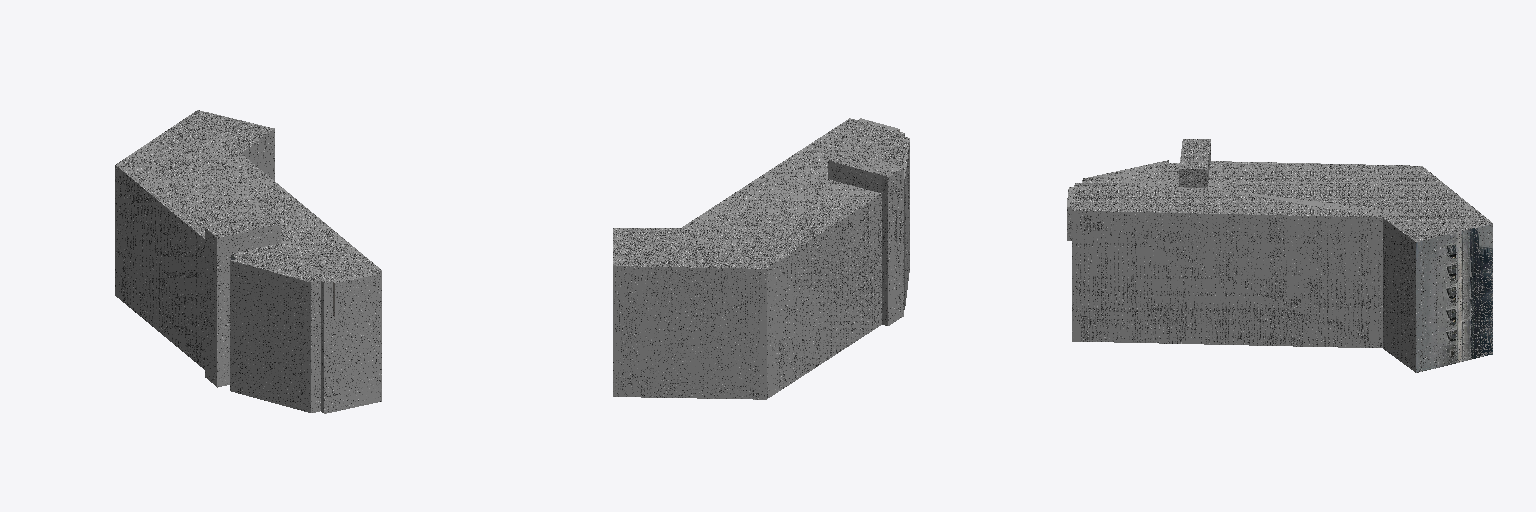
The picture shows the model from 3 angles: view 1: azimuth 30°, elevation 25°; view 2: azimuth 150°, elevation 25°; view 3: azimuth 270°, elevation 25°; orthographic projection.
Parts seen in each view (by area): view 1: group_0_ID3, group_0.001_ID46, group_0.008_ID172, group_0.002_ID69, group_0.006_ID146; view 2: group_0_ID3, group_0.005_ID133, group_0.001_ID46, group_0.008_ID172; view 3: group_0.007_ID159, group_0_ID3, group_0.004_ID120, group_0.006_ID146.
Part boxes in pixels (x1,y1,x2,y2): group_0_ID3: (116, 110, 381, 387); group_0.001_ID46: (115, 165, 216, 386); group_0.008_ID172: (230, 260, 310, 412); group_0.002_ID69: (311, 271, 381, 413); group_0.006_ID146: (241, 129, 274, 180); group_0_ID3: (613, 118, 909, 309); group_0.005_ID133: (613, 266, 766, 399); group_0.001_ID46: (767, 167, 903, 398); group_0.008_ID172: (905, 142, 909, 305); group_0.007_ID159: (1072, 211, 1382, 347); group_0_ID3: (1072, 139, 1492, 241); group_0.004_ID120: (1416, 224, 1492, 372); group_0.006_ID146: (1383, 218, 1415, 372).
Bounding box in the file's own units: 27.18 × 22.25 × 57.65.
22 materials, 5 textured.